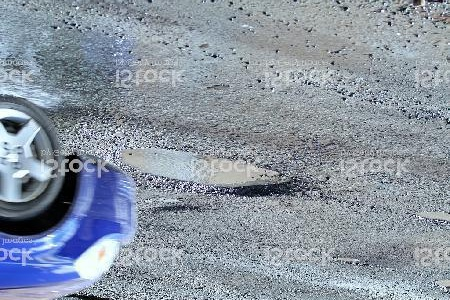pothole: (112, 142, 309, 199), (412, 209, 449, 224)
